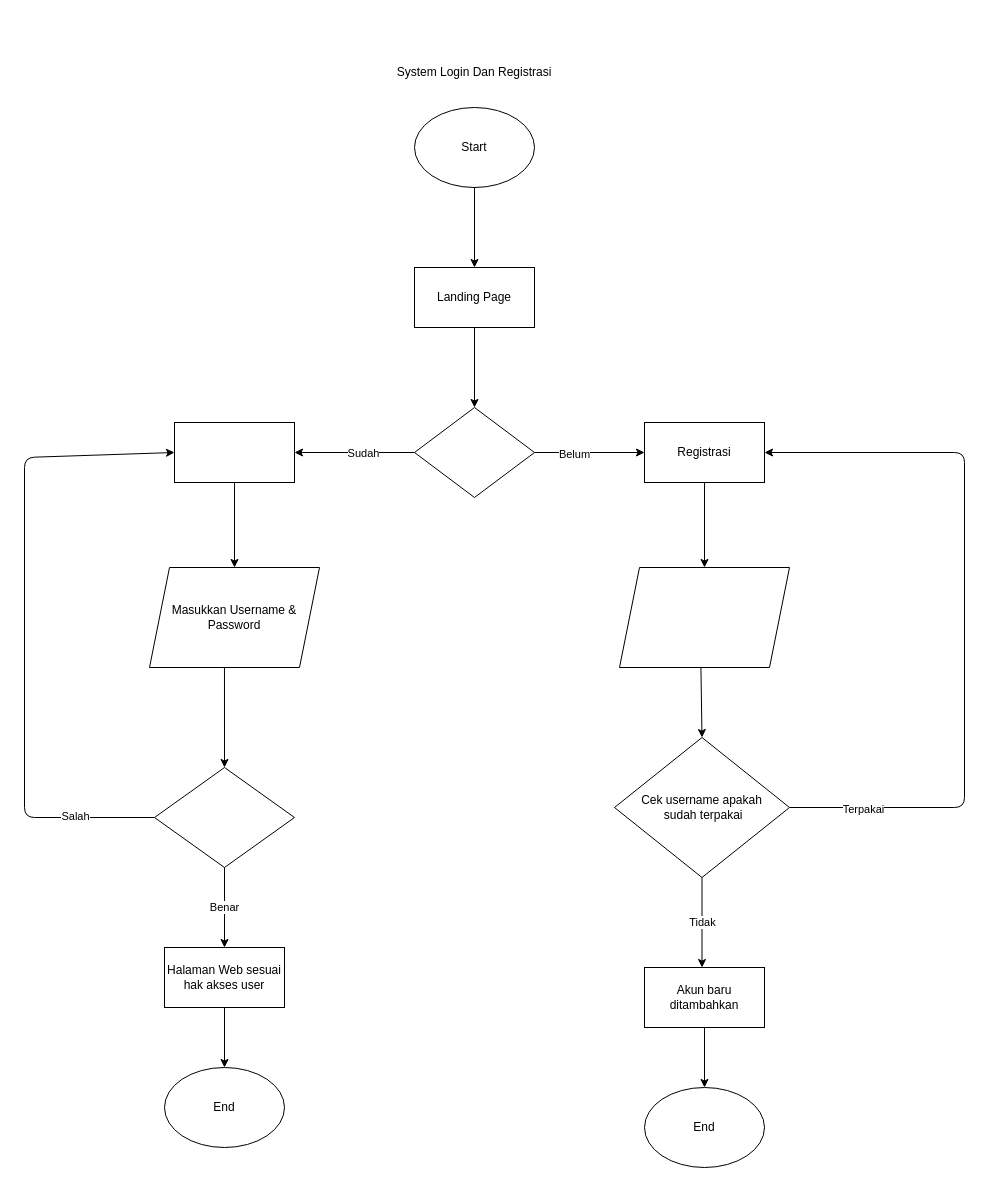
Some shapes in this 990 by 1185 pixel diagram are drawn without their labels. The centre of each missing label's shape, as x and y in pixels:
Cek Username & Password: point (224, 817)
Login: point (234, 452)
Masukkan Data: point (704, 617)
Punya Akun?: point (474, 452)
